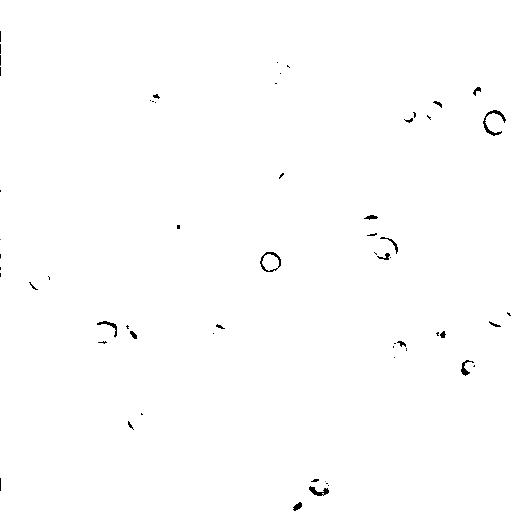micro-algae: (1, 300, 78, 379), (94, 352, 141, 399), (198, 312, 235, 347), (0, 246, 22, 302), (425, 318, 458, 350), (276, 487, 315, 512), (118, 317, 148, 348), (477, 256, 506, 285), (481, 108, 509, 138), (314, 264, 342, 293), (370, 236, 400, 263), (274, 164, 302, 192), (89, 320, 122, 343), (125, 407, 152, 434), (484, 305, 512, 330), (164, 207, 188, 236), (359, 213, 389, 236), (496, 144, 512, 186), (268, 59, 292, 86), (259, 250, 284, 275), (1, 47, 25, 73), (424, 99, 448, 123), (29, 270, 51, 292), (125, 234, 147, 256), (388, 340, 411, 361), (308, 477, 331, 497), (398, 101, 418, 123), (460, 357, 477, 378), (472, 84, 485, 100)
